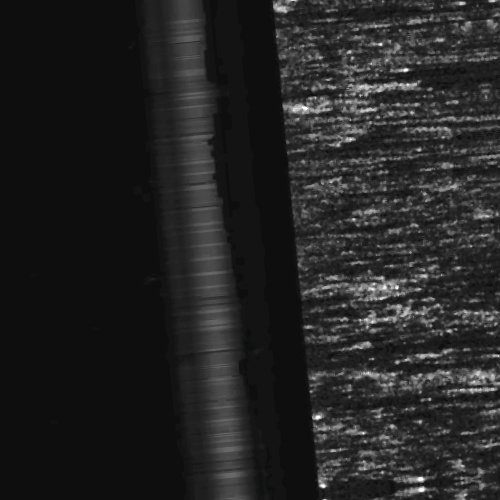object: (338, 92, 463, 103), (402, 199, 465, 206)
shadow: (390, 301, 500, 312), (309, 92, 400, 103), (399, 180, 500, 189), (343, 199, 433, 206)
